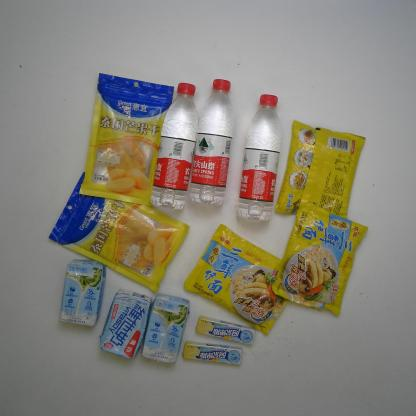Candy: (194, 315, 258, 348), (181, 340, 245, 368)
Dried Fruit: (48, 170, 191, 295), (78, 72, 176, 208)
Drink: (149, 81, 199, 212), (235, 92, 284, 224), (187, 77, 236, 208)
Instant Noodles: (183, 222, 289, 336), (271, 200, 369, 318), (274, 116, 366, 220)
Milk: (97, 287, 153, 360), (140, 292, 191, 366), (57, 258, 108, 328)
